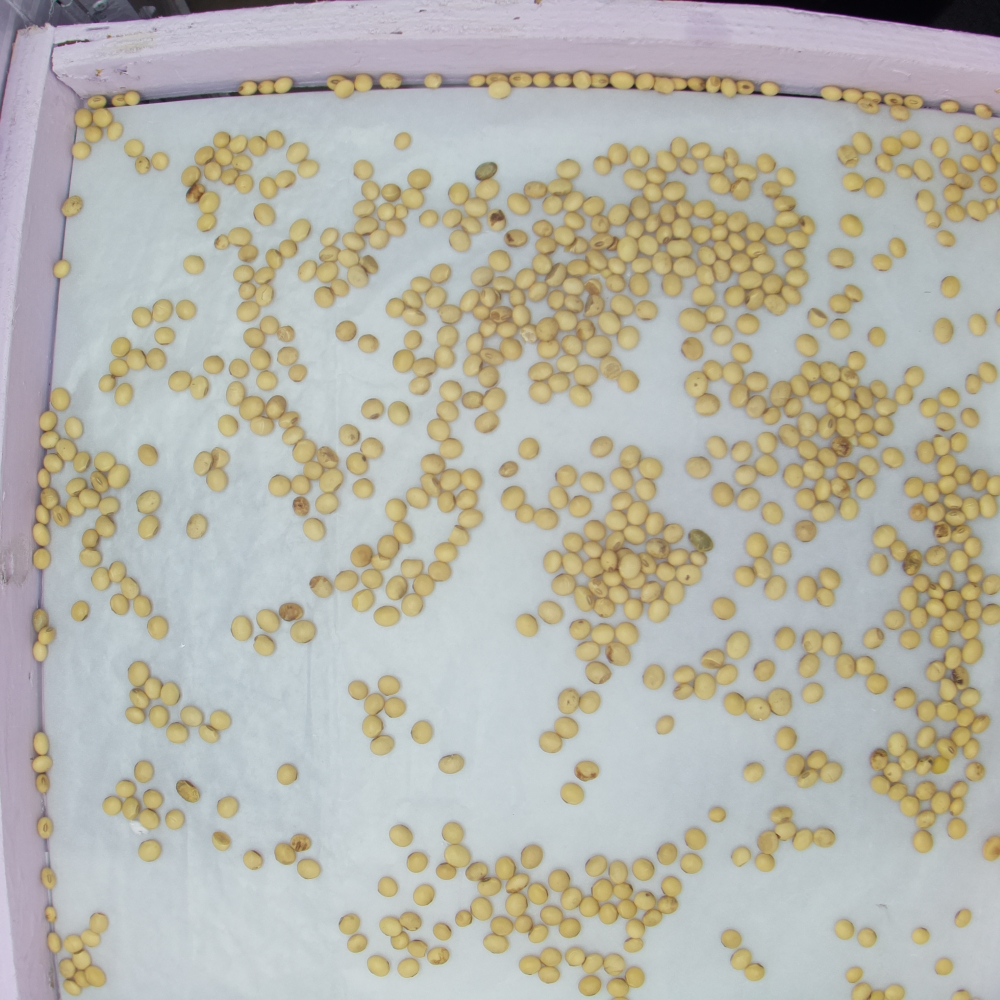soya: (408, 719, 434, 747), (237, 396, 266, 421), (727, 631, 749, 663), (436, 754, 466, 776), (693, 674, 719, 699), (389, 825, 415, 850), (375, 675, 404, 697), (506, 872, 531, 896), (175, 779, 200, 803), (695, 394, 721, 417), (369, 735, 395, 758), (683, 371, 707, 395), (483, 387, 507, 411), (345, 680, 369, 704), (561, 783, 585, 807), (412, 882, 436, 906), (681, 309, 706, 332), (505, 891, 528, 916), (584, 855, 609, 878), (502, 486, 524, 512), (137, 491, 161, 514), (291, 621, 315, 644), (377, 877, 400, 901), (798, 654, 820, 679), (663, 580, 684, 606), (231, 616, 252, 642), (350, 544, 373, 567), (294, 440, 317, 463), (256, 609, 279, 632), (152, 299, 174, 323), (206, 468, 228, 492), (687, 457, 711, 479), (548, 871, 572, 893), (603, 953, 625, 977), (620, 554, 641, 579), (829, 248, 854, 269), (557, 918, 583, 938), (373, 607, 400, 626), (287, 141, 309, 164), (626, 502, 648, 525), (746, 699, 769, 721), (754, 660, 776, 683), (559, 886, 581, 909), (683, 828, 706, 850), (127, 662, 148, 686), (767, 576, 788, 600), (568, 495, 592, 516), (654, 715, 678, 736), (521, 845, 542, 869), (481, 935, 509, 953), (578, 976, 602, 997), (682, 336, 702, 361), (638, 458, 663, 478), (533, 508, 558, 528), (644, 665, 664, 690), (576, 898, 601, 918), (963, 640, 983, 665), (193, 450, 211, 477), (168, 371, 190, 393), (210, 710, 232, 732), (85, 965, 107, 987), (737, 313, 759, 335), (795, 335, 817, 357), (737, 488, 759, 510), (321, 469, 343, 491), (560, 552, 582, 574), (661, 875, 683, 897), (438, 325, 459, 348), (539, 602, 562, 623), (648, 600, 669, 623), (555, 717, 578, 738), (539, 732, 562, 753), (867, 673, 888, 696), (248, 349, 272, 369), (138, 443, 158, 467), (138, 516, 158, 540), (109, 464, 129, 488), (148, 616, 168, 640), (713, 483, 733, 507), (519, 438, 539, 462), (551, 574, 575, 594), (776, 626, 796, 650), (471, 897, 491, 921), (893, 689, 917, 709), (276, 841, 295, 866), (538, 317, 557, 342), (383, 698, 408, 717), (445, 846, 470, 865), (473, 878, 499, 896), (166, 722, 188, 743), (132, 761, 154, 782), (217, 797, 238, 819), (393, 350, 414, 372), (362, 399, 384, 420), (338, 425, 360, 446), (621, 446, 642, 468), (555, 466, 577, 487), (611, 468, 632, 490), (636, 479, 657, 501), (616, 623, 638, 644), (579, 691, 600, 713), (841, 215, 863, 236), (138, 841, 161, 861), (402, 189, 425, 209), (706, 436, 726, 459), (499, 339, 522, 359), (475, 412, 498, 432), (517, 614, 537, 637), (364, 695, 384, 718), (634, 858, 654, 881), (940, 610, 963, 630), (979, 493, 996, 520), (235, 302, 259, 321), (254, 371, 278, 390), (662, 183, 686, 202), (618, 237, 637, 261), (574, 366, 598, 385), (811, 502, 835, 521), (747, 533, 766, 557), (725, 692, 744, 716), (399, 912, 423, 931), (147, 347, 165, 372), (579, 474, 604, 492), (337, 916, 362, 934), (279, 427, 305, 444), (838, 654, 855, 680), (254, 204, 275, 225), (242, 849, 263, 870), (335, 320, 356, 341), (389, 403, 410, 424), (348, 453, 369, 474), (401, 595, 422, 616), (336, 570, 357, 591), (303, 519, 324, 540), (442, 822, 463, 843), (657, 844, 678, 865), (874, 526, 895, 547), (863, 178, 884, 199), (290, 219, 310, 241), (229, 227, 251, 247), (218, 414, 238, 436), (89, 913, 111, 933), (51, 388, 71, 410), (316, 262, 338, 282), (442, 440, 464, 460), (721, 363, 743, 383), (570, 386, 592, 406), (713, 598, 733, 620), (591, 437, 613, 457), (421, 473, 441, 495), (716, 665, 738, 685), (438, 305, 461, 324), (507, 194, 530, 213), (582, 197, 605, 216), (587, 337, 610, 356), (730, 442, 753, 461), (377, 538, 400, 557), (268, 477, 291, 496), (645, 513, 664, 536), (191, 376, 209, 400), (798, 577, 816, 601), (730, 384, 748, 408), (422, 454, 446, 472), (458, 509, 482, 527), (511, 916, 535, 934), (900, 586, 918, 610), (914, 829, 932, 853), (248, 418, 273, 435), (247, 136, 268, 156), (199, 193, 220, 213), (110, 336, 130, 357), (96, 516, 116, 537), (119, 578, 140, 598), (70, 601, 90, 622), (56, 439, 77, 459), (434, 347, 455, 367), (490, 251, 510, 272), (559, 159, 580, 179), (440, 381, 461, 401), (710, 174, 731, 194), (712, 325, 733, 345), (779, 425, 799, 446), (757, 433, 778, 453), (820, 568, 841, 588), (430, 562, 451, 582), (386, 499, 406, 520), (317, 493, 337, 514), (585, 521, 606, 541), (641, 582, 661, 603), (390, 931, 411, 951), (592, 880, 612, 901), (682, 855, 703, 875), (802, 683, 823, 703), (822, 762, 842, 783), (830, 319, 851, 339), (924, 598, 945, 618), (242, 328, 264, 347), (92, 568, 111, 590), (133, 595, 152, 617), (425, 288, 447, 307), (608, 144, 627, 166), (624, 169, 646, 188), (427, 419, 449, 438), (361, 438, 383, 457), (437, 401, 459, 420), (653, 252, 672, 274), (693, 286, 715, 305), (601, 313, 620, 335), (784, 465, 803, 487), (549, 487, 568, 509), (540, 907, 562, 926), (757, 832, 776, 854), (926, 659, 945, 681), (885, 610, 904, 632), (930, 627, 949, 649), (936, 476, 958, 495), (941, 276, 960, 298), (161, 683, 179, 706), (150, 705, 168, 728), (673, 258, 696, 276), (752, 256, 775, 274), (435, 543, 458, 561), (268, 395, 286, 418), (575, 587, 593, 610), (361, 716, 379, 739), (406, 853, 429, 871), (496, 857, 514, 880), (610, 861, 628, 884), (600, 904, 618, 927), (777, 726, 795, 749), (962, 498, 980, 521), (804, 630, 821, 654), (259, 315, 279, 335), (132, 307, 152, 327), (227, 382, 243, 407), (656, 151, 676, 171), (668, 240, 693, 256), (737, 465, 757, 485), (413, 575, 433, 595), (960, 687, 980, 707), (916, 783, 936, 803), (353, 160, 374, 179), (140, 809, 159, 830), (299, 859, 320, 878), (348, 265, 367, 286), (471, 267, 492, 286), (662, 274, 681, 295), (630, 275, 649, 296), (619, 327, 638, 348), (530, 384, 551, 403), (747, 395, 766, 416), (461, 469, 482, 488), (407, 488, 428, 507), (528, 885, 547, 906), (626, 968, 645, 989), (744, 763, 763, 784), (798, 769, 819, 788), (793, 829, 812, 850), (831, 295, 852, 314), (944, 183, 963, 204), (888, 782, 907, 803), (232, 265, 254, 283), (111, 594, 129, 616), (408, 170, 430, 188), (476, 180, 498, 198), (450, 230, 468, 252), (355, 217, 377, 235), (461, 290, 479, 312), (786, 269, 808, 287), (756, 456, 778, 474), (543, 551, 561, 573), (541, 948, 563, 966), (786, 754, 804, 776), (853, 132, 871, 154), (944, 647, 962, 669), (188, 515, 205, 538), (79, 549, 102, 566), (798, 413, 815, 436), (577, 642, 600, 659), (824, 632, 841, 655), (919, 726, 936, 749), (108, 562, 127, 582), (143, 679, 162, 699), (181, 706, 201, 725), (278, 764, 297, 784), (358, 334, 378, 353), (631, 147, 650, 167), (516, 270, 536, 289), (554, 227, 574, 246), (728, 212, 748, 231), (672, 218, 691, 238), (562, 336, 582, 355), (762, 275, 782, 294), (780, 285, 800, 304), (766, 226, 786, 245), (821, 362, 840, 382), (884, 448, 903, 468), (817, 448, 836, 468), (858, 456, 878, 475), (764, 503, 783, 523), (605, 532, 624, 552), (594, 624, 614, 643), (518, 957, 537, 977), (905, 477, 924, 497), (905, 366, 924, 386), (933, 793, 952, 813), (298, 160, 319, 178), (259, 177, 277, 198), (90, 471, 108, 492), (80, 489, 101, 507), (414, 358, 435, 376), (631, 197, 649, 218), (619, 370, 637, 391), (440, 470, 461, 488), (467, 862, 488, 880), (491, 917, 512, 935), (582, 954, 603, 972), (917, 700, 935, 721), (869, 554, 887, 575), (914, 160, 932, 181), (959, 622, 980, 640), (951, 550, 969, 571), (949, 818, 967, 839), (183, 256, 205, 273), (299, 260, 316, 282), (153, 328, 175, 345), (611, 297, 633, 314), (556, 313, 578, 330), (739, 272, 761, 289), (401, 559, 423, 576), (378, 918, 400, 935), (813, 829, 835, 846), (918, 441, 935, 463), (842, 174, 864, 191), (889, 733, 906, 755), (729, 255, 752, 271), (816, 477, 832, 500), (623, 526, 646, 542), (538, 968, 561, 984), (230, 359, 249, 378), (165, 810, 184, 829), (565, 192, 584, 211), (586, 250, 605, 269), (361, 256, 380, 275), (837, 462, 856, 481), (479, 367, 498, 386), (290, 475, 309, 494), (563, 532, 582, 551), (618, 900, 637, 919), (864, 628, 883, 647), (937, 701, 956, 720), (957, 708, 976, 727), (943, 590, 962, 609), (926, 503, 945, 522), (916, 811, 935, 830), (278, 348, 298, 366), (204, 356, 224, 374), (212, 448, 230, 468), (95, 453, 115, 471), (99, 497, 119, 515), (45, 453, 63, 473), (40, 488, 58, 508), (93, 109, 113, 127), (449, 183, 467, 203), (465, 198, 485, 216), (430, 265, 450, 283), (638, 236, 658, 254), (696, 265, 714, 285), (705, 306, 725, 324), (732, 344, 752, 362), (704, 361, 722, 381), (637, 302, 657, 320), (530, 282, 548, 302), (725, 287, 743, 307), (775, 212, 799, 227), (802, 362, 820, 382), (606, 510, 626, 528), (900, 630, 918, 650), (888, 541, 906, 561), (959, 583, 983, 598), (982, 603, 1000, 623), (889, 238, 907, 258), (62, 979, 83, 996), (65, 417, 82, 438), (404, 308, 425, 325), (611, 204, 628, 225), (714, 260, 731, 281), (549, 375, 570, 392), (784, 251, 805, 268), (855, 388, 872, 409), (802, 461, 823, 478), (279, 411, 300, 428), (805, 751, 826, 768), (776, 823, 797, 840), (895, 385, 912, 406), (122, 798, 138, 820), (342, 234, 364, 250), (932, 137, 948, 159), (529, 364, 552, 379), (841, 497, 856, 520), (479, 349, 502, 364), (673, 667, 696, 682), (770, 807, 793, 822), (278, 238, 296, 257), (255, 266, 273, 285), (177, 301, 195, 320), (199, 724, 218, 742), (103, 797, 121, 816), (143, 789, 161, 808), (442, 209, 461, 227), (403, 290, 422, 308), (403, 331, 421, 350), (314, 287, 332, 306), (533, 256, 552, 274), (745, 290, 764, 308), (810, 383, 828, 402), (840, 367, 859, 385), (785, 398, 803, 417), (798, 441, 817, 459), (393, 523, 411, 542), (353, 480, 372, 498), (305, 460, 323, 479), (583, 559, 602, 577), (528, 926, 547, 944), (955, 125, 974, 143), (967, 763, 986, 781), (275, 171, 295, 188), (410, 378, 430, 395), (339, 250, 359, 267), (525, 182, 545, 199), (694, 201, 714, 218), (674, 201, 694, 218), (747, 373, 767, 390), (737, 567, 754, 587), (464, 355, 481, 375), (462, 391, 482, 408), (456, 490, 476, 507), (625, 599, 642, 619), (256, 638, 276, 655), (882, 138, 902, 155), (938, 737, 955, 757), (733, 848, 750, 868), (237, 246, 258, 262), (773, 382, 787, 406), (613, 882, 634, 898), (754, 855, 775, 871), (913, 575, 929, 596), (924, 481, 940, 502), (902, 749, 918, 770), (385, 220, 407, 235), (566, 260, 588, 275), (954, 726, 969, 748), (197, 214, 215, 232), (130, 689, 148, 707), (66, 936, 84, 954), (67, 497, 85, 515), (593, 157, 611, 175), (746, 223, 764, 241), (589, 579, 607, 597), (658, 563, 676, 581), (937, 456, 955, 474), (289, 364, 308, 381), (82, 931, 101, 948), (67, 478, 86, 495), (680, 158, 699, 175), (777, 168, 796, 185), (831, 382, 850, 399), (856, 414, 873, 433), (875, 417, 892, 436), (798, 489, 815, 508), (438, 492, 455, 511), (407, 940, 426, 957), (627, 919, 644, 938), (848, 350, 865, 369), (973, 716, 990, 735), (733, 165, 756, 179), (237, 174, 253, 194), (115, 781, 135, 797), (53, 506, 69, 526), (354, 201, 374, 217), (480, 287, 496, 307), (467, 333, 483, 353), (672, 137, 688, 157), (775, 195, 795, 211), (858, 478, 874, 498), (610, 493, 630, 509), (583, 541, 603, 557), (857, 655, 873, 675), (900, 132, 920, 148), (917, 191, 933, 211), (153, 151, 168, 172), (497, 323, 518, 338), (787, 233, 808, 248), (820, 416, 835, 437), (754, 558, 769, 579), (912, 607, 927, 628), (872, 774, 887, 795), (630, 258, 652, 272), (603, 550, 617, 572), (941, 678, 955, 700), (972, 469, 986, 491), (902, 795, 916, 817), (195, 146, 212, 164), (395, 133, 412, 151), (82, 530, 99, 548), (85, 126, 102, 144), (132, 156, 150, 173), (362, 181, 379, 199), (387, 299, 404, 317), (544, 196, 561, 214), (644, 213, 661, 231), (693, 226, 710, 244), (607, 275, 625, 292), (757, 154, 775, 171), (836, 418, 853, 436), (817, 588, 834, 606), (517, 504, 534, 522), (567, 948, 584, 966), (938, 573, 955, 591), (110, 360, 129, 376), (116, 385, 132, 404), (126, 707, 145, 723), (75, 453, 91, 472), (75, 108, 91, 127), (462, 217, 481, 233), (330, 280, 349, 296), (514, 306, 530, 325), (565, 213, 584, 229), (533, 221, 552, 237), (659, 204, 675, 223), (729, 231, 745, 250), (877, 399, 896, 415), (940, 158, 956, 177), (873, 255, 892, 271), (550, 180, 570, 195), (705, 156, 725, 171), (709, 211, 729, 226), (538, 343, 558, 358), (564, 279, 584, 294), (622, 938, 645, 951), (558, 357, 579, 371), (125, 140, 142, 157), (73, 142, 90, 159), (421, 211, 438, 228), (947, 205, 964, 222), (205, 162, 221, 180), (267, 130, 283, 148), (73, 952, 91, 968), (537, 238, 555, 254), (434, 924, 452, 940), (745, 243, 767, 256), (412, 277, 431, 292), (320, 247, 339, 262), (700, 247, 715, 266), (564, 296, 583, 311), (609, 587, 628, 602), (954, 173, 973, 188), (267, 248, 281, 268), (492, 277, 515, 289), (434, 865, 455, 878), (230, 136, 247, 152), (378, 204, 394, 221), (372, 231, 388, 248), (647, 167, 664, 183), (627, 222, 644, 238), (716, 242, 732, 259), (548, 291, 564, 308), (791, 377, 807, 394), (845, 285, 861, 302), (966, 601, 982, 618), (233, 155, 251, 170), (321, 228, 336, 246), (646, 183, 661, 201), (692, 143, 710, 158), (710, 226, 728, 241), (829, 398, 844, 416), (968, 564, 983, 582), (950, 782, 968, 797), (846, 400, 860, 419), (967, 538, 981, 557), (214, 132, 230, 148), (98, 375, 114, 391), (222, 170, 239, 185), (75, 971, 90, 988), (607, 258, 624, 273), (871, 380, 886, 397), (946, 494, 963, 509), (938, 231, 955, 246), (480, 319, 494, 337), (658, 225, 672, 243), (456, 911, 470, 929), (216, 149, 232, 164), (510, 290, 525, 306), (764, 182, 780, 197), (60, 959, 73, 977), (886, 763, 899, 781), (725, 148, 737, 167), (764, 408, 779, 423), (108, 123, 122, 139), (709, 808, 725, 822), (928, 583, 942, 598), (948, 510, 964, 523), (395, 205, 408, 219), (474, 306, 488, 319)
